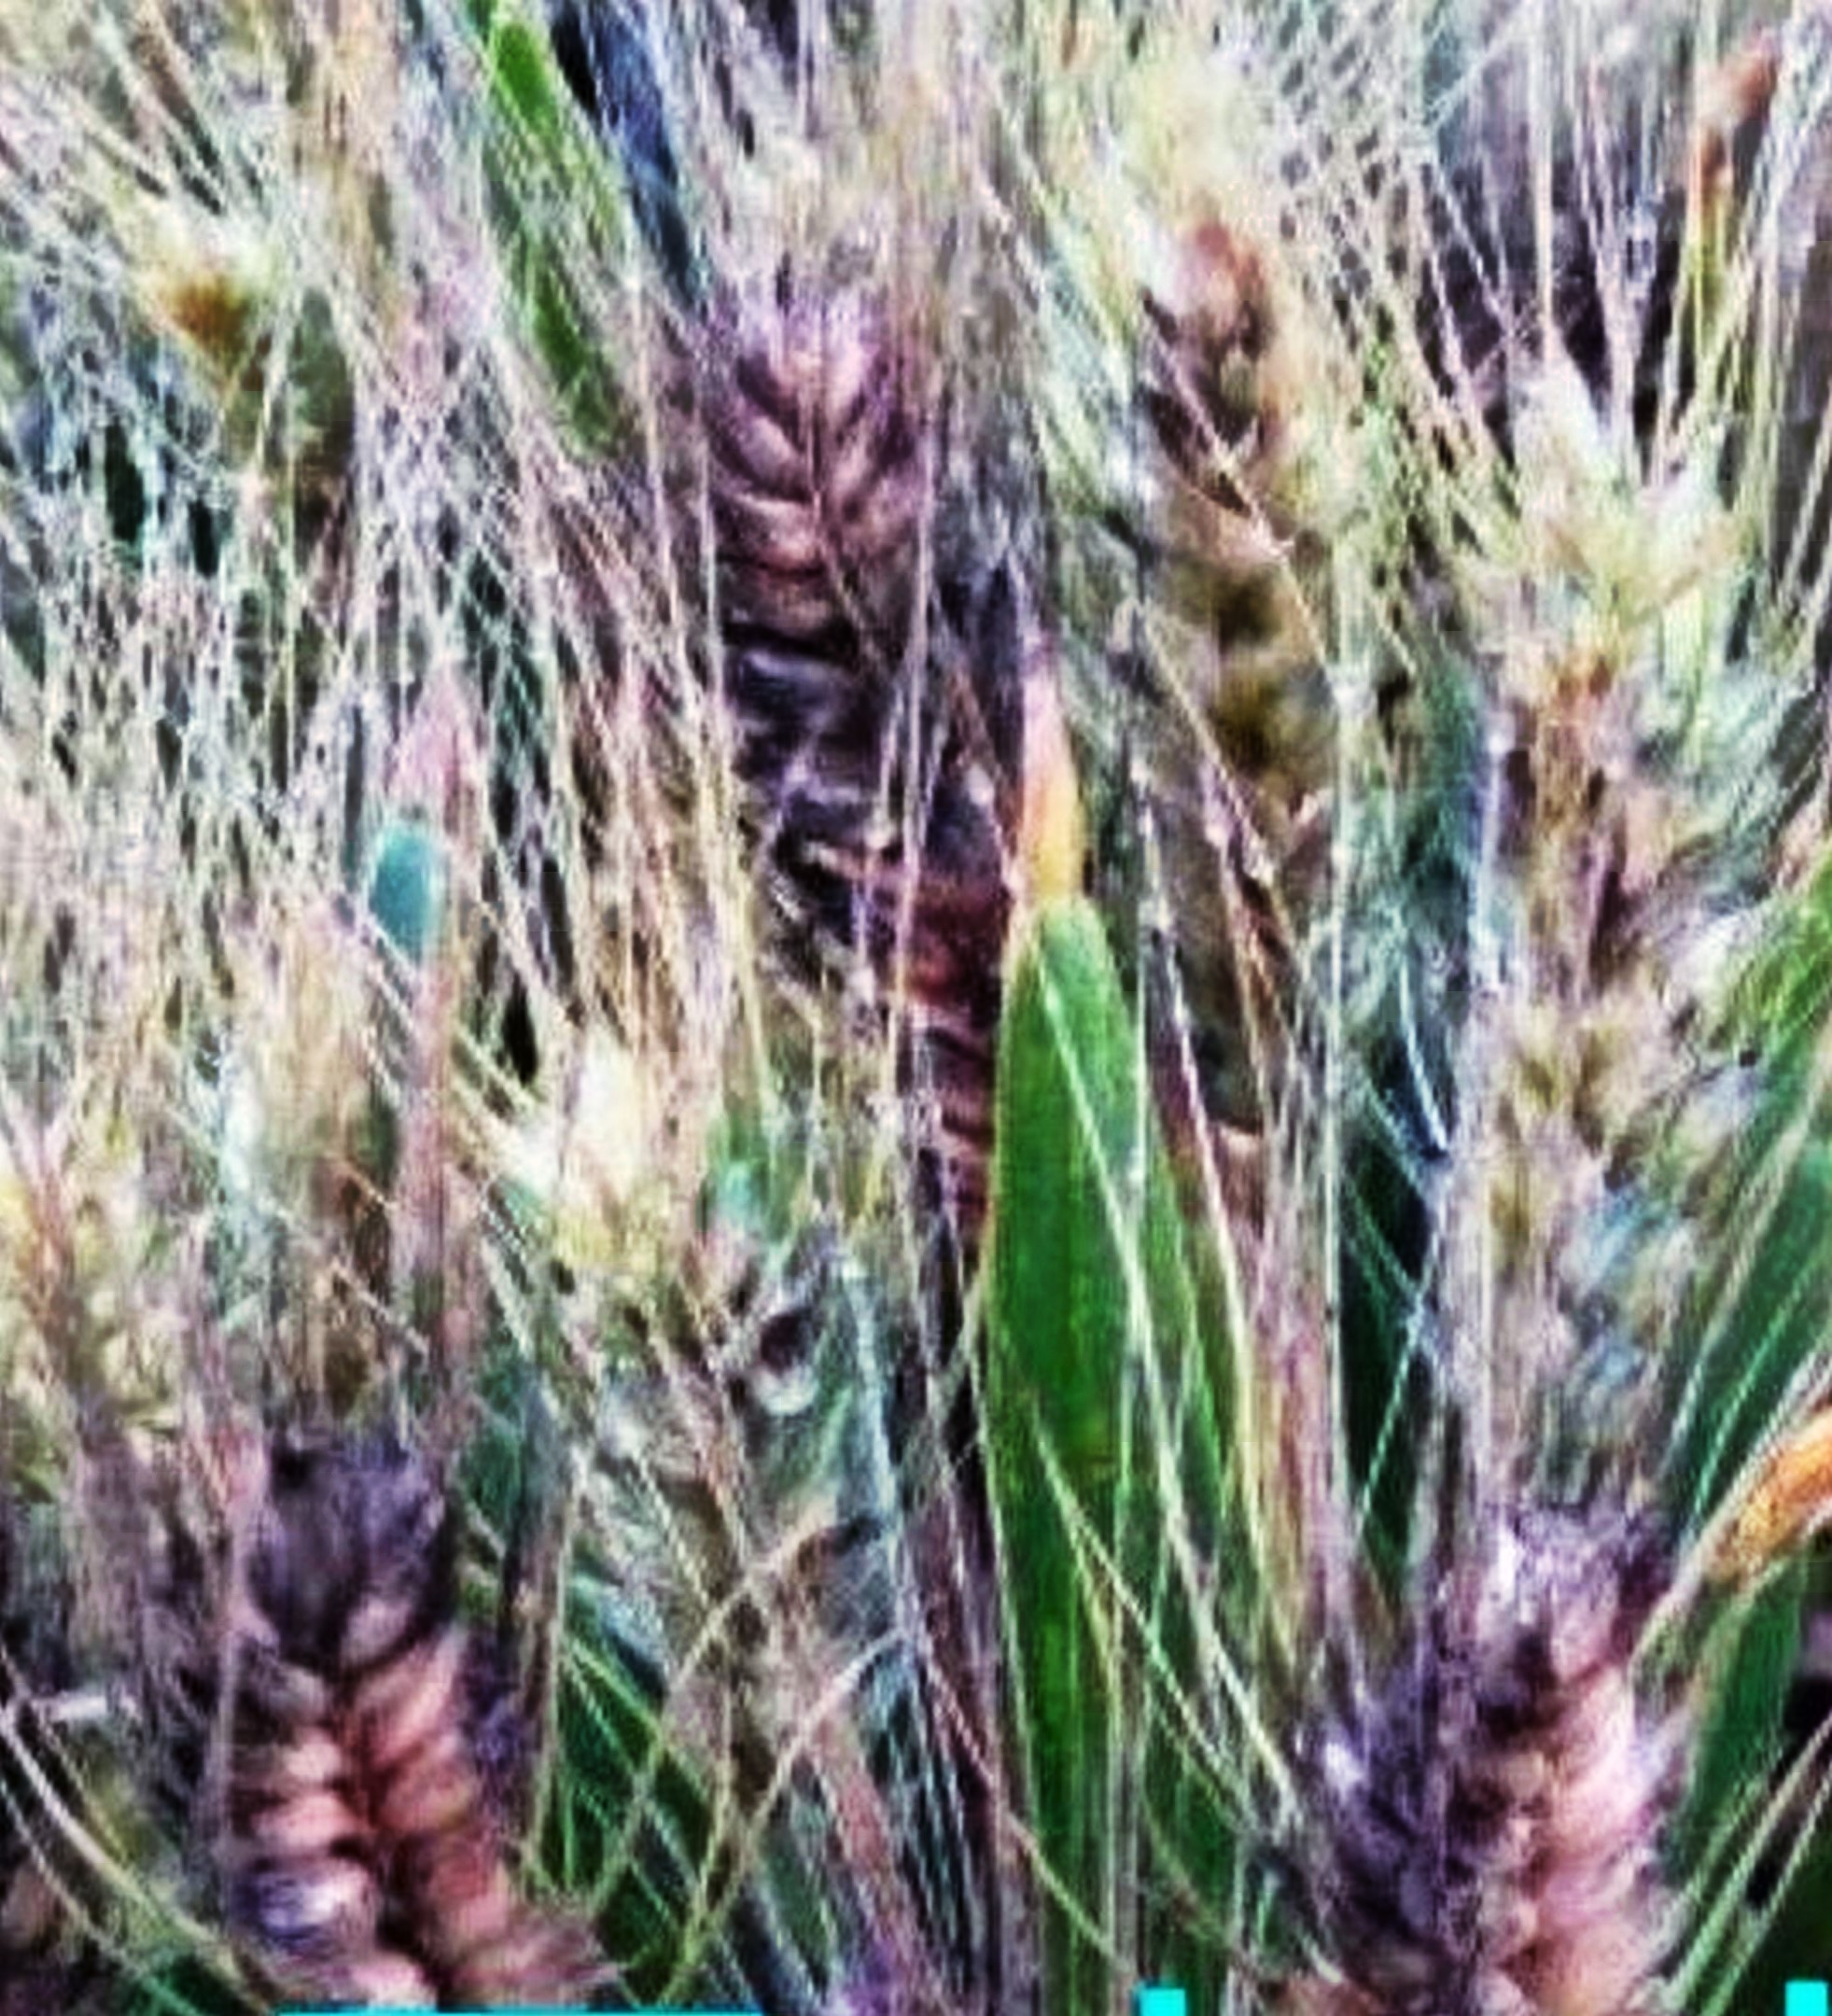Wheat scab: (664, 190, 1015, 929), (137, 1431, 567, 2002)
